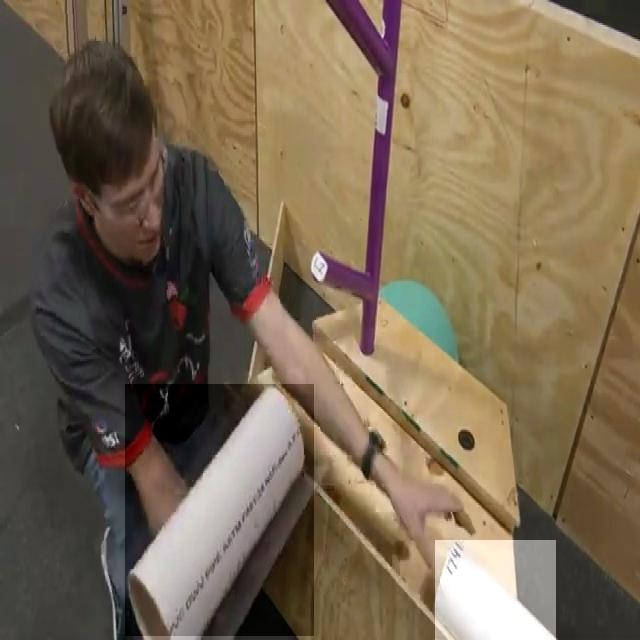Coral: (125, 384, 314, 636), (435, 540, 556, 640)
